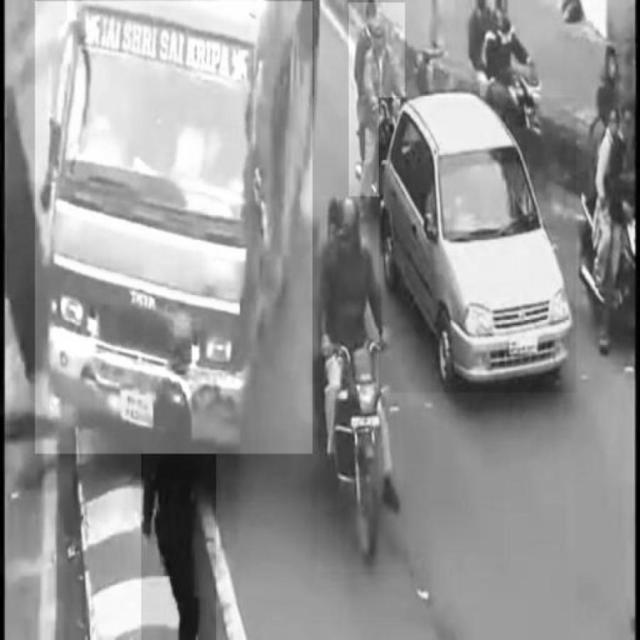accident: (35, 1, 313, 453)
person: (141, 335, 215, 640)
vehicle: (379, 98, 576, 392), (317, 197, 403, 572), (349, 3, 405, 197)
